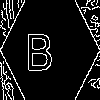B: (25, 25, 53, 70)
